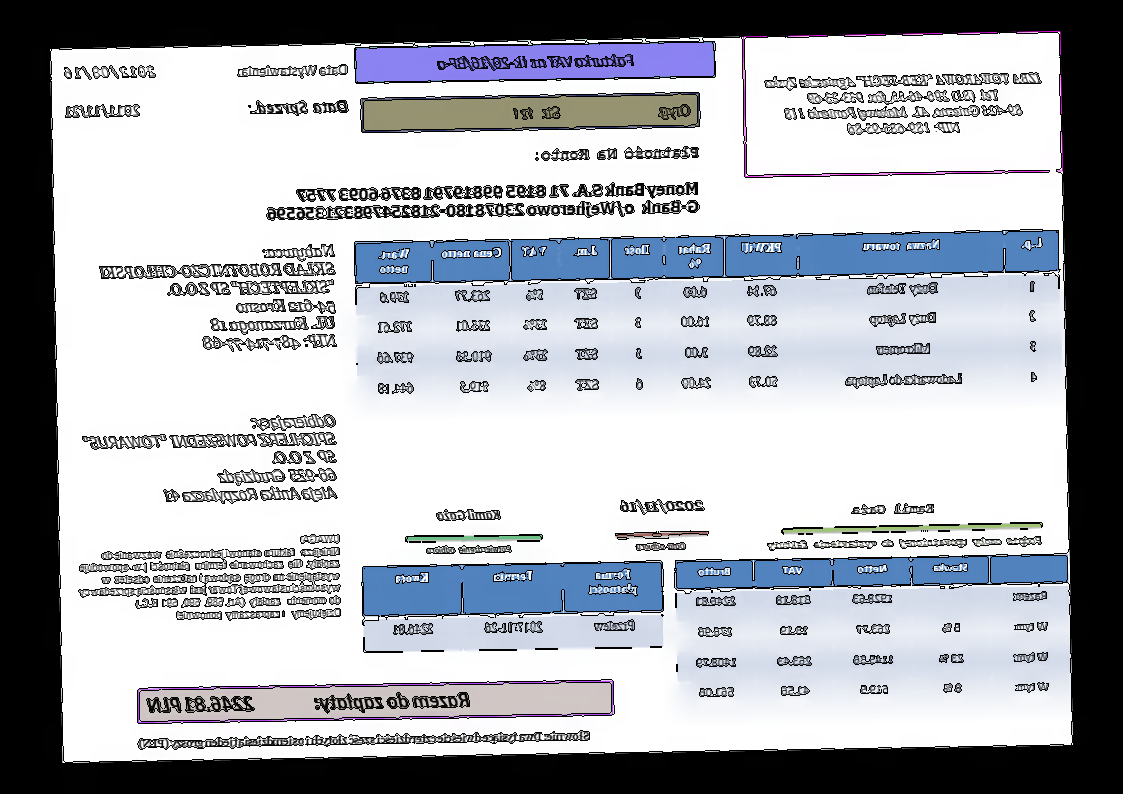Table: (354, 227, 1063, 408), (675, 553, 1071, 712), (361, 559, 665, 653)
TextBox: (97, 241, 340, 356), (74, 530, 344, 625), (77, 411, 341, 508), (763, 66, 1044, 140), (264, 178, 702, 225), (137, 727, 593, 752), (144, 687, 474, 718), (765, 533, 1044, 554), (434, 51, 639, 74), (510, 100, 693, 124), (533, 143, 703, 165), (241, 97, 352, 119), (235, 60, 350, 79), (61, 62, 159, 83), (619, 495, 707, 516), (847, 500, 937, 518), (62, 102, 144, 120), (426, 541, 513, 557), (434, 506, 505, 523), (633, 540, 689, 553)
